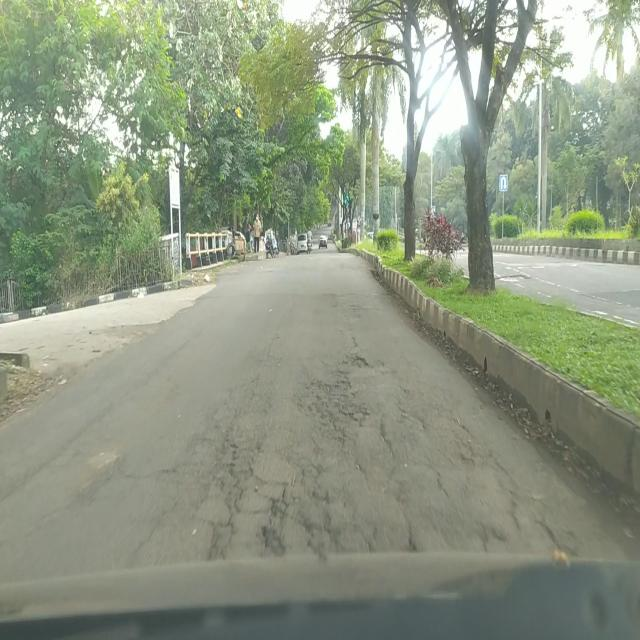Drain Hole: (210, 353, 561, 554)
